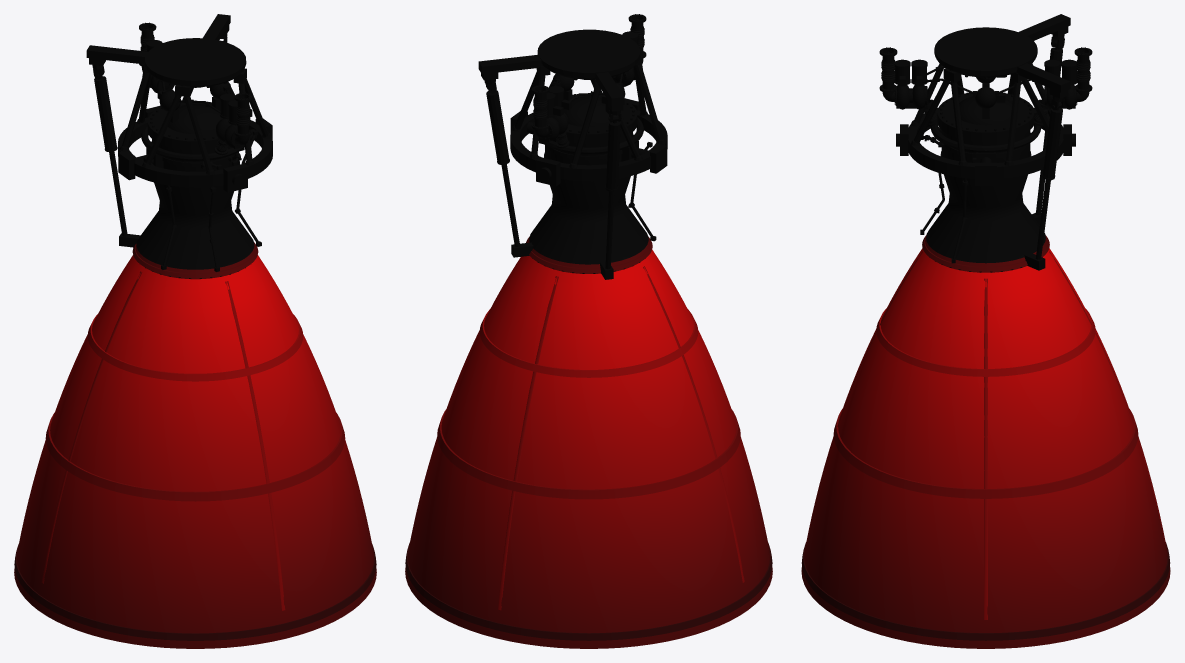
Rendered from eng_hypergolic_storable.fbx.
The picture shows the model from 3 angles, left to right: view 1: azimuth 30°, elevation 25°; view 2: azimuth 150°, elevation 25°; view 3: azimuth 270°, elevation 25°; orthographic projection.
Visible parts, largest first — view 1: eng_hypergolic_storable_LOD0; view 2: eng_hypergolic_storable_LOD0; view 3: eng_hypergolic_storable_LOD0.
Part boxes in pixels (bbox=[...]): eng_hypergolic_storable_LOD0: bbox=[14, 14, 376, 648]; eng_hypergolic_storable_LOD0: bbox=[405, 14, 772, 648]; eng_hypergolic_storable_LOD0: bbox=[801, 14, 1170, 648].
Size of what is drawn, in the model's own units: 2.5 by 3.9 by 2.5.
